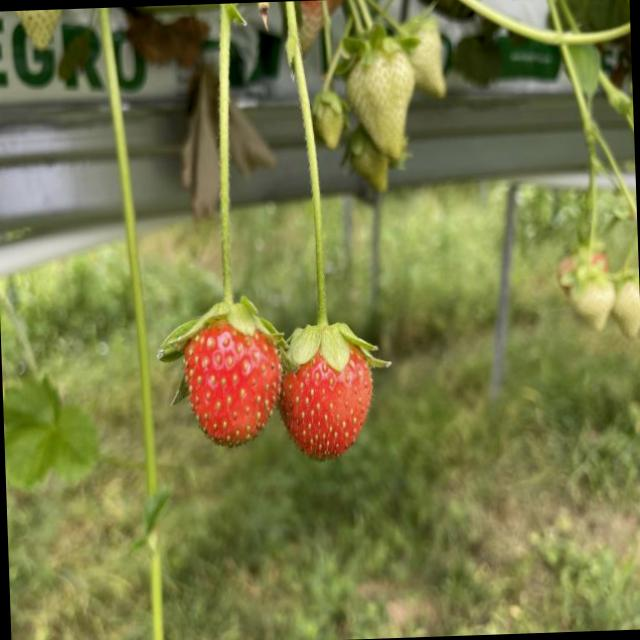stem: (165, 5, 277, 354), (282, 112, 381, 369)
strawberryNR: (347, 48, 415, 158), (13, 9, 60, 46)
strawberryR: (182, 321, 279, 441), (276, 349, 369, 458)
